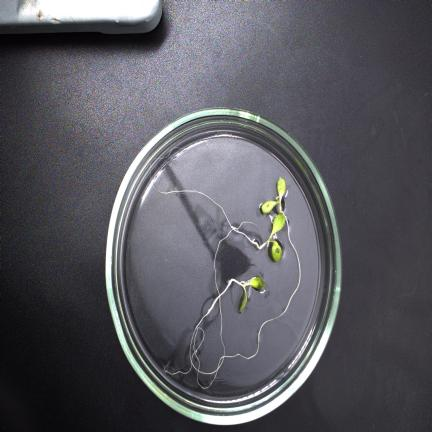leaf1: (261, 201, 277, 214)
leaf2: (277, 178, 286, 202)
leaf3: (271, 213, 285, 236)
leaf4: (271, 241, 282, 261)
leaf5: (248, 277, 264, 290)
leaf6: (239, 288, 247, 312)
root1: (195, 216, 301, 389), (164, 352, 195, 375), (193, 327, 205, 353)
root2: (150, 146, 257, 245)
root3: (214, 221, 263, 295), (189, 295, 225, 374), (220, 285, 230, 297)
stem1: (279, 202, 286, 217)
stem2: (256, 237, 273, 250)
stem3: (228, 279, 249, 288)
